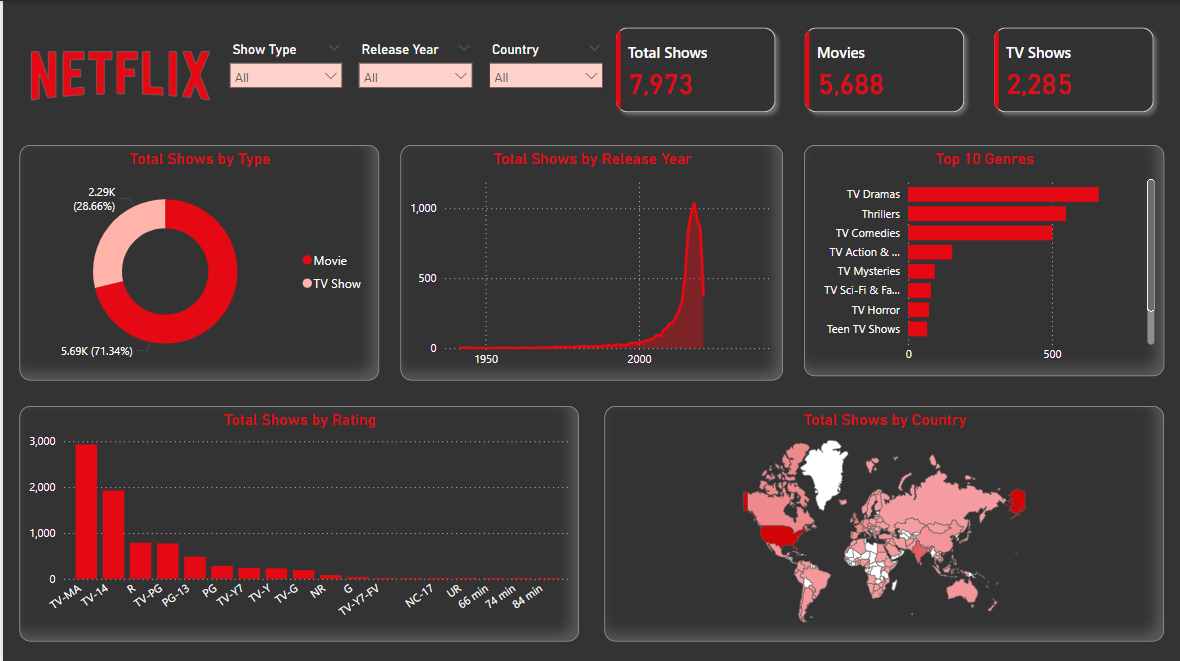

The dashboard page shown, as its layout file describes it:
{"tool":"powerbi","page":{"name":"Main Dashboard","canvas":[1280,720],"ordinal":0},"visuals":[{"type":"cardVisual","fields":{"Data":["Measures_.Total Shows","Measures_.Movies","Measures_.TV Shows"]},"box":[647.4,11.4,619.7,126.9],"z":0},{"type":"donutChart","title":"Total Shows by Type","fields":{"Category":["netflix_titles.type"],"Y":["Count(netflix_titles.show_id)"]},"box":[18.7,156.2,390,255],"z":1000},{"type":"areaChart","title":"Total Shows by Release Year","fields":{"Category":["netflix_titles.release_year"],"Y":["Count(netflix_titles.show_id)"]},"box":[431.4,156.1,414.8,255.4],"z":2000},{"type":"columnChart","title":"Total Shows by Rating","fields":{"Category":["netflix_titles.rating"],"Y":["Count(netflix_titles.show_id)"]},"box":[17.9,439.8,606.7,255.4],"z":3000},{"type":"clusteredBarChart","title":"Top 10 Genres","fields":{"Y":["Count(netflix_titles.show_id)"],"Category":["netflix_titles.listed_in"]},"box":[868.8,155.7,390.4,250.5],"z":4000},{"type":"shapeMap","title":"Total Shows by Country","fields":{"Category":["netflix_titles.country"],"Value":["CountNonNull(netflix_titles.show_id)"]},"box":[652.2,439.8,606.7,255.4],"z":5000},{"type":"slicer","fields":{"Values":["netflix_titles.type"]},"box":[235.4,39,142,68.3],"z":6000},{"type":"slicer","fields":{"Values":["netflix_titles.release_year"]},"box":[376,39,143.1,68.3],"z":7000},{"type":"slicer","fields":{"Values":["netflix_titles.country"]},"box":[517.9,39,143.1,68.3],"z":8000},{"type":"image","box":[17.9,22.8,218,115.5],"z":9000}]}

Visuals, with their boxes in screenshot pixels (x1, y1, x2, y2), scaled from the page's 1280x720 canvas onto the 1180x661 screenshot:
cardVisual - Measures_.Total Shows x Measures_.Movies: box(597, 10, 1168, 127)
"Total Shows by Type" donutChart: box(17, 143, 377, 378)
"Total Shows by Release Year" areaChart: box(398, 143, 780, 378)
"Total Shows by Rating" columnChart: box(17, 404, 576, 638)
"Top 10 Genres" clusteredBarChart: box(801, 143, 1161, 373)
"Total Shows by Country" shapeMap: box(601, 404, 1161, 638)
slicer - netflix_titles.type: box(217, 36, 348, 99)
slicer - netflix_titles.release_year: box(347, 36, 479, 99)
slicer - netflix_titles.country: box(477, 36, 609, 99)
image: box(17, 21, 217, 127)
